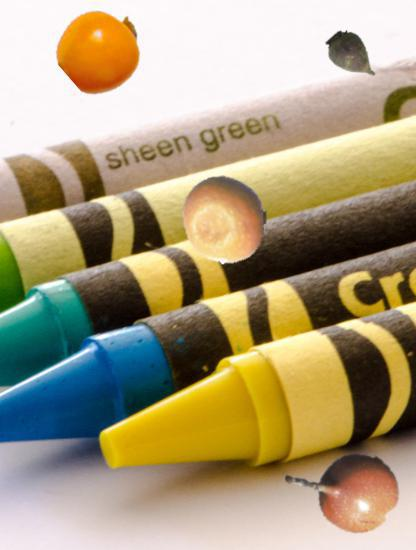Beetroot: (322, 27, 383, 88)
Granadilla: (290, 428, 403, 541)
Kumquats: (180, 175, 270, 265)
Physalis: (58, 6, 145, 93)
